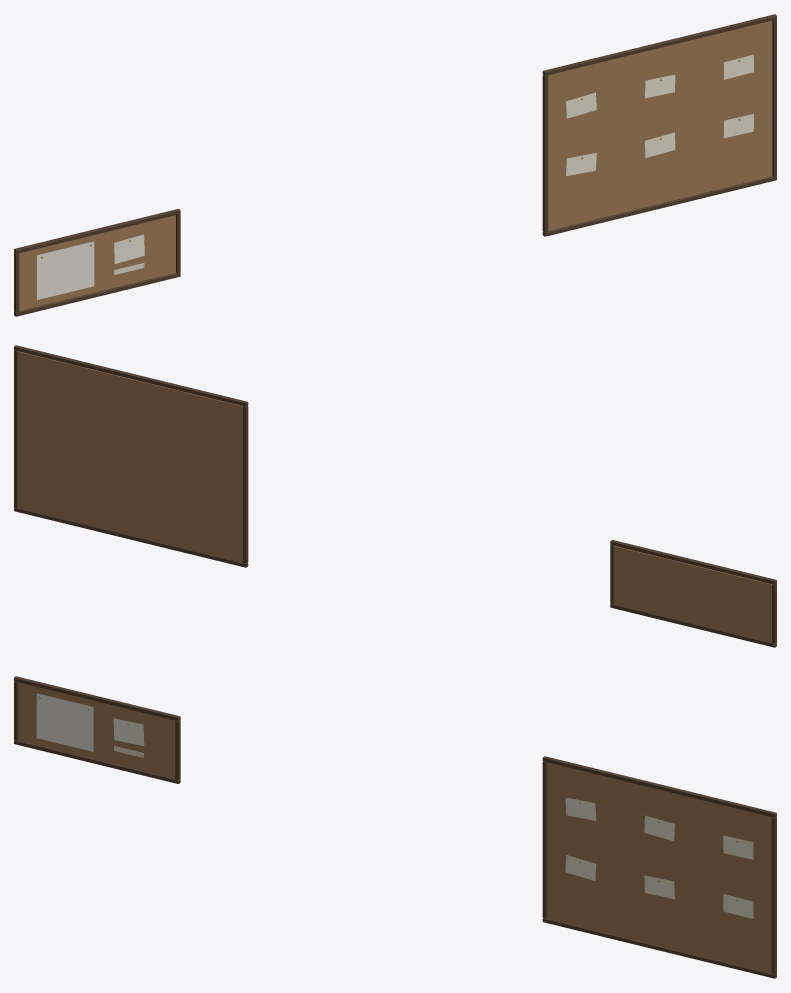
Rendered from corkboards.glb.
3 renders of one model, top to bottom at view 1: azimuth 30°, elevation 25°; view 2: azimuth 150°, elevation 25°; view 3: azimuth 330°, elevation 25°, orthographic.
Visible parts, largest first — view 1: QueueBoard_Cork, CorkStrip_Cork, Target_Print, QueueBoard_FrameT, QueueBoard_FrameB, QueueBoard_FrameL, CorkStrip_FrameT, CorkStrip_FrameB, QueueBoard_FrameR, Prompt_Card, Queue_Slip_0, Queue_Slip_3 (+4 smaller); view 2: QueueBoard_Cork, CorkStrip_Cork, QueueBoard_FrameT, QueueBoard_FrameL, QueueBoard_FrameB, CorkStrip_FrameT, CorkStrip_FrameB, QueueBoard_FrameR; view 3: QueueBoard_Cork, CorkStrip_Cork, Target_Print, QueueBoard_FrameT, QueueBoard_FrameB, CorkStrip_FrameT, QueueBoard_FrameR, QueueBoard_FrameL, CorkStrip_FrameB, Prompt_Card, Queue_Slip_2, Queue_Slip_5 (+4 smaller).
Part boxes in pixels (box(x1,y1,x2,y2)): QueueBoard_Cork: box(548, 20, 772, 230); CorkStrip_Cork: box(19, 215, 175, 311); Target_Print: box(37, 241, 94, 299); QueueBoard_FrameT: box(542, 14, 776, 75); QueueBoard_FrameB: box(542, 176, 776, 236); QueueBoard_FrameL: box(542, 75, 548, 232); CorkStrip_FrameT: box(14, 209, 180, 253); CorkStrip_FrameB: box(14, 273, 180, 316); QueueBoard_FrameR: box(772, 19, 776, 176); Prompt_Card: box(114, 234, 144, 263); Queue_Slip_0: box(566, 92, 596, 118); Queue_Slip_3: box(566, 153, 596, 176); QueueBoard_Cork: box(17, 351, 242, 562); CorkStrip_Cork: box(614, 546, 771, 642); QueueBoard_FrameT: box(14, 345, 248, 406); QueueBoard_FrameL: box(242, 406, 248, 563); QueueBoard_FrameB: box(14, 507, 248, 567); CorkStrip_FrameT: box(610, 540, 776, 584); CorkStrip_FrameB: box(610, 604, 776, 647); QueueBoard_FrameR: box(14, 350, 17, 507); QueueBoard_Cork: box(547, 762, 771, 972); CorkStrip_Cork: box(18, 682, 175, 778); Target_Print: box(36, 693, 93, 751); QueueBoard_FrameT: box(542, 756, 776, 817); QueueBoard_FrameB: box(542, 918, 776, 978); CorkStrip_FrameT: box(14, 676, 180, 721); QueueBoard_FrameR: box(771, 816, 776, 974); QueueBoard_FrameL: box(542, 761, 547, 918); CorkStrip_FrameB: box(14, 740, 180, 783); Prompt_Card: box(113, 718, 144, 745); Queue_Slip_2: box(723, 835, 753, 859); Queue_Slip_5: box(723, 894, 753, 918).
Bounding box in the file's own units: 4.06 × 0.84 × 0.021.
